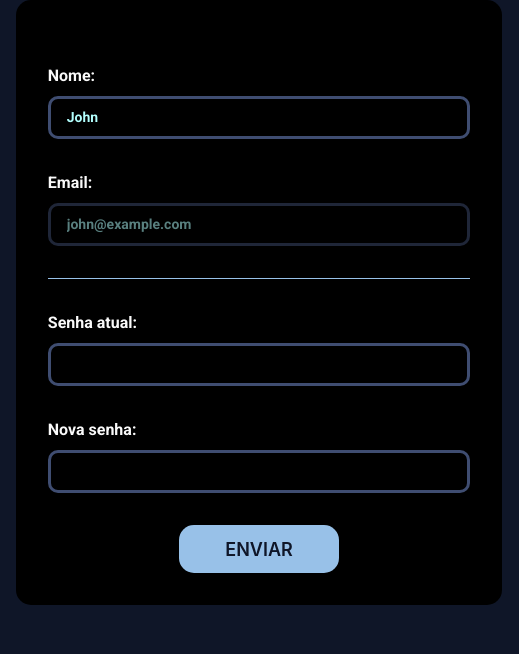
Scenario: MyProfileForm Component › should show an error message if the current password is wrong
The image size is (519, 654).
Type "wrongPassword" into the password field labelled "Senha atual:". click: (259, 364)
box: top-left (48, 343), bottom-right (470, 386)
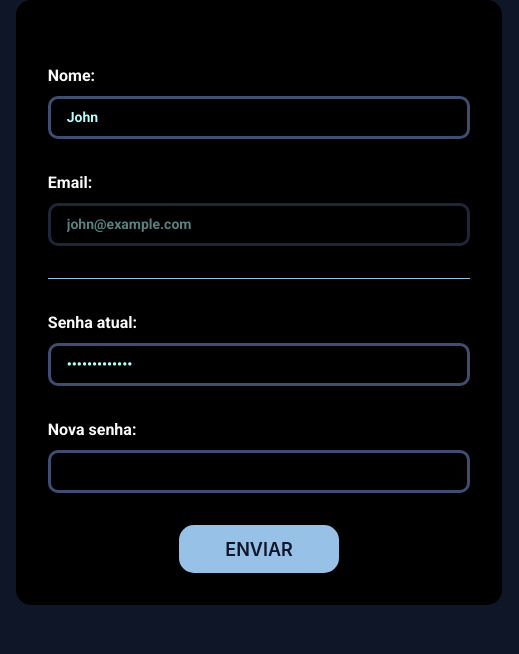
Type "NewPassword1" into the password field labelled "Nova senha:". click: (259, 472)
box: top-left (48, 450), bottom-right (470, 493)
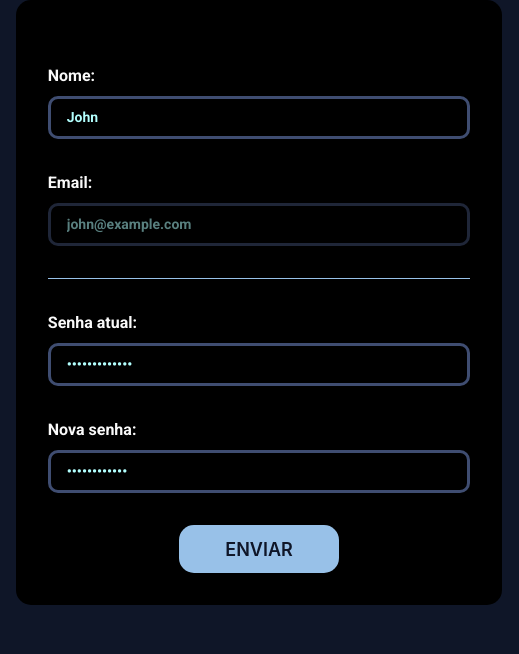
Click the button "enviar". click: click(259, 549)
box: top-left (179, 525), bottom-right (339, 573)
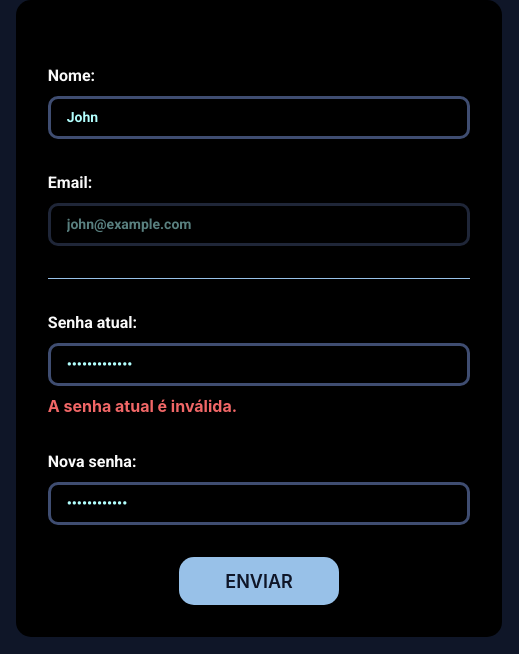
Expected: the text "A senha atual é inválida." is shown, top-left (48, 396), bottom-right (237, 416)
